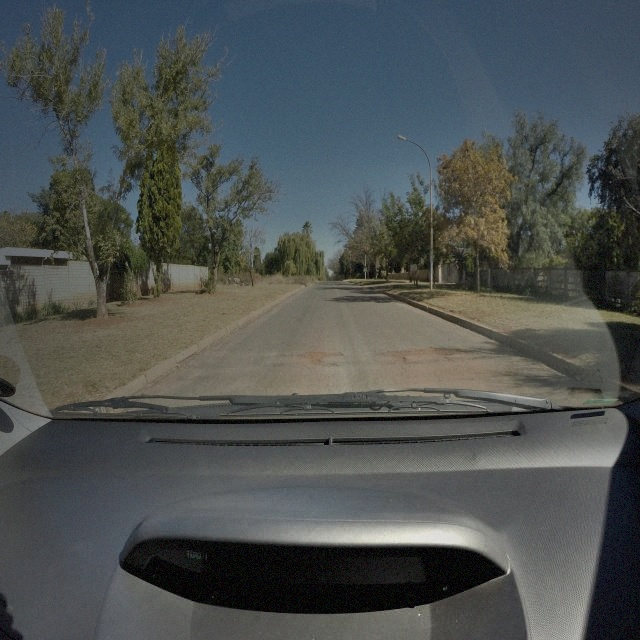pothole: (377, 346, 471, 360), (300, 349, 344, 368)
